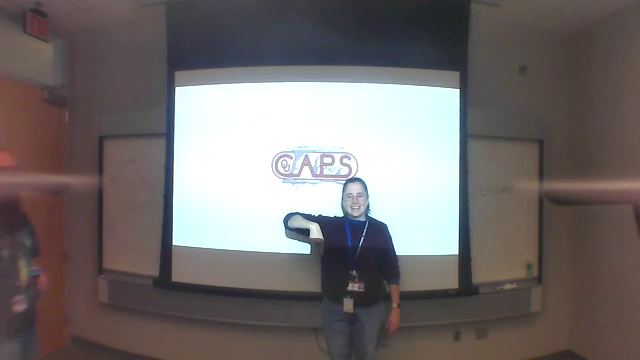down: (307, 221, 328, 256)
